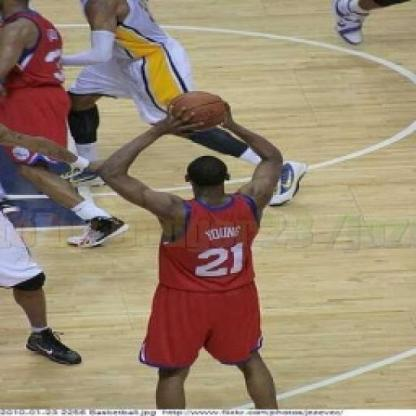basketball: (166, 86, 226, 131)
